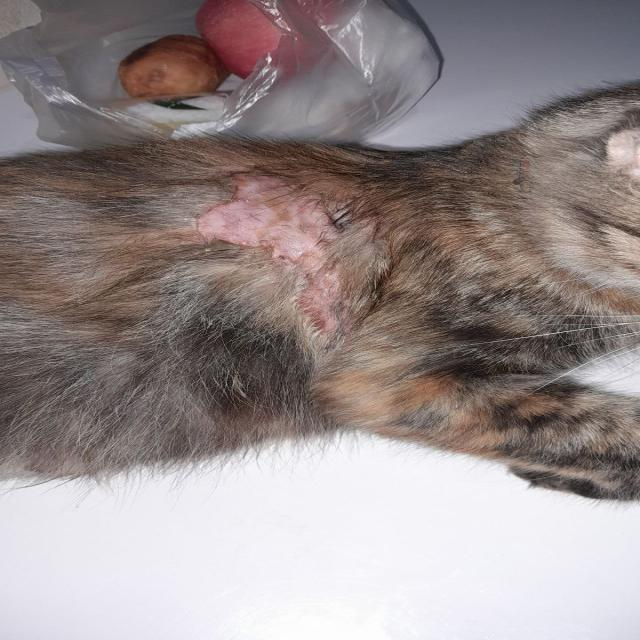hac lao: (152, 157, 410, 312)
